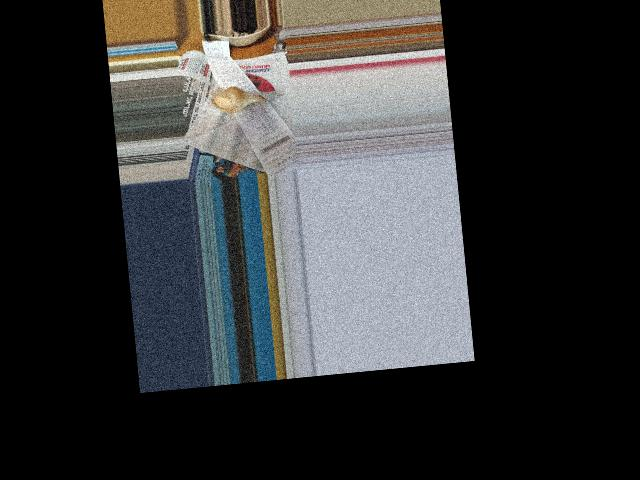onion: (211, 86, 251, 115)
